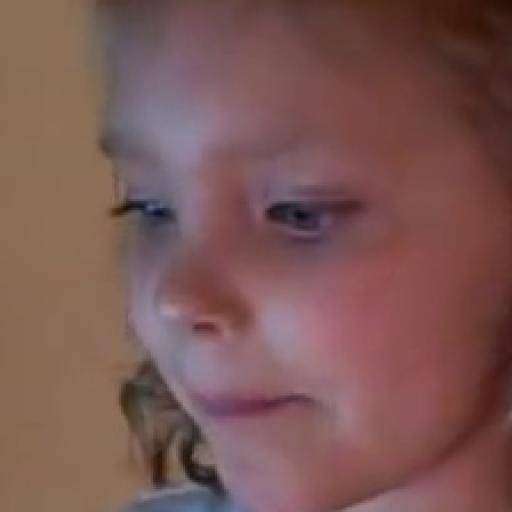Autism: (152, 51, 493, 510)
